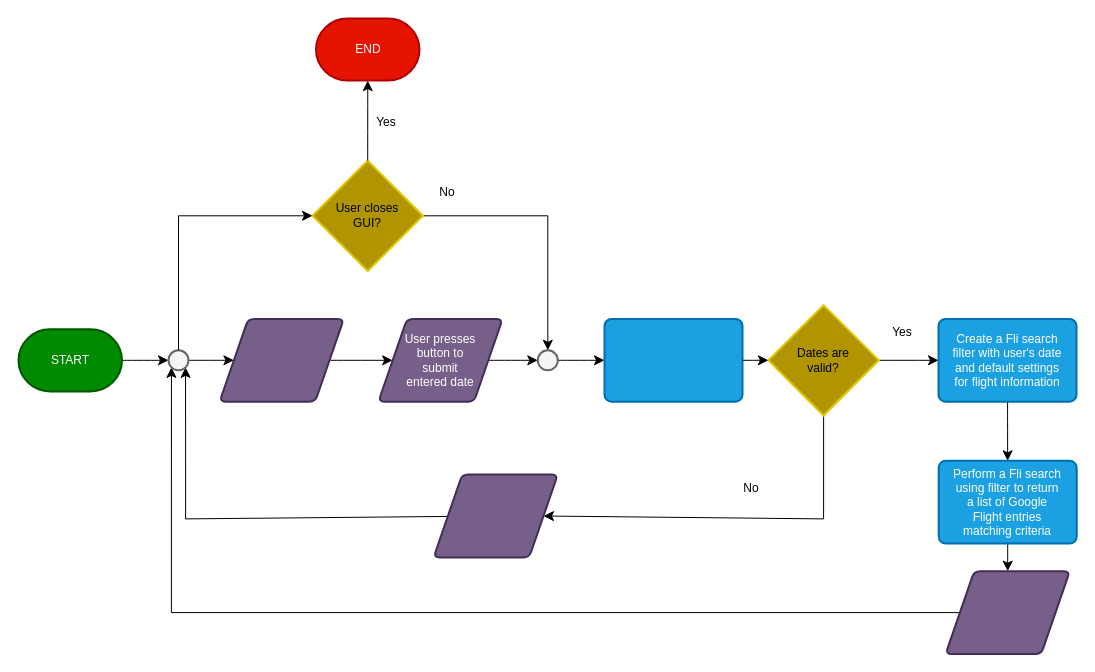
This 1095x672 diagram has some shape labels left out. The shapes that lost their labels are listed below. From the top down, each one's centre as x and y in pixels, then its label:
(x=281, y=359): User enters travel date for departing and return trip
(x=673, y=359): Check if dates are properly entered and are chronologically correct
(x=495, y=515): Display error message
(x=1007, y=612): Display each result on screen
